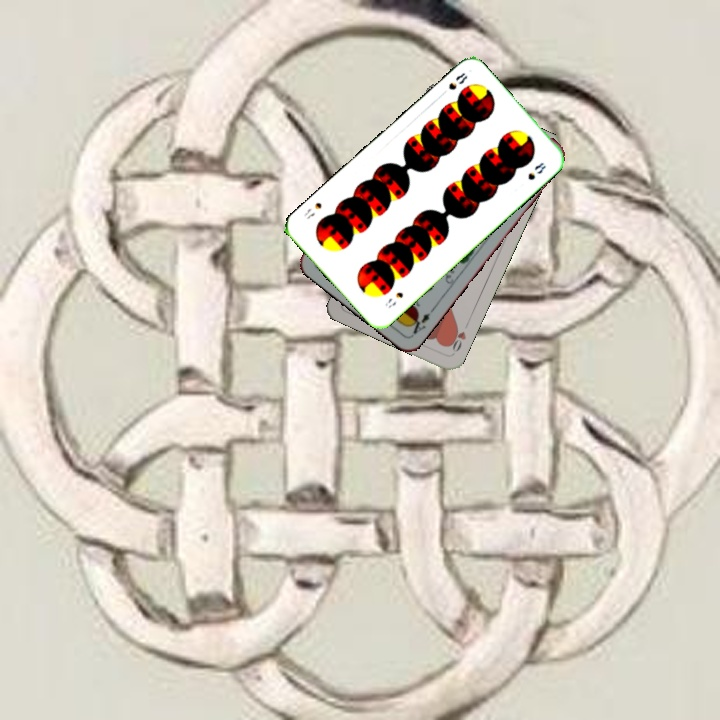EA: (405, 304, 437, 338)
HO: (444, 322, 469, 356)
S8: (444, 69, 470, 93), (381, 288, 406, 310)
